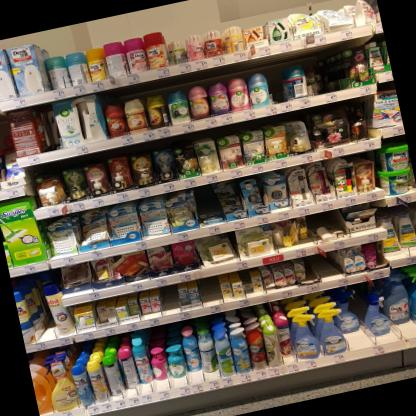empty_space: (266, 69, 289, 107), (197, 276, 223, 309), (313, 257, 346, 283), (158, 284, 181, 317)
